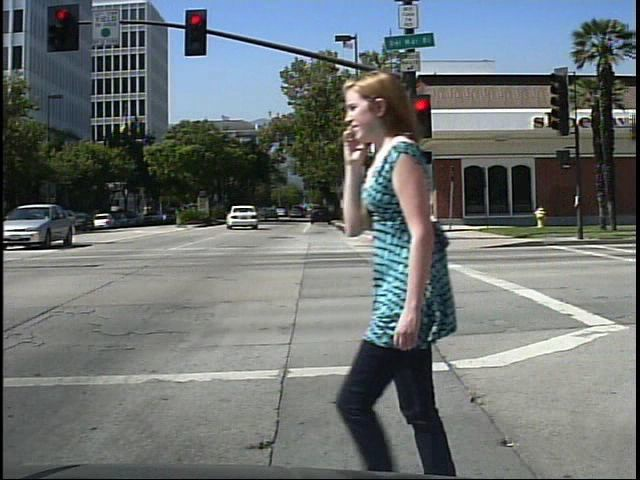person: (319, 61, 509, 479)
